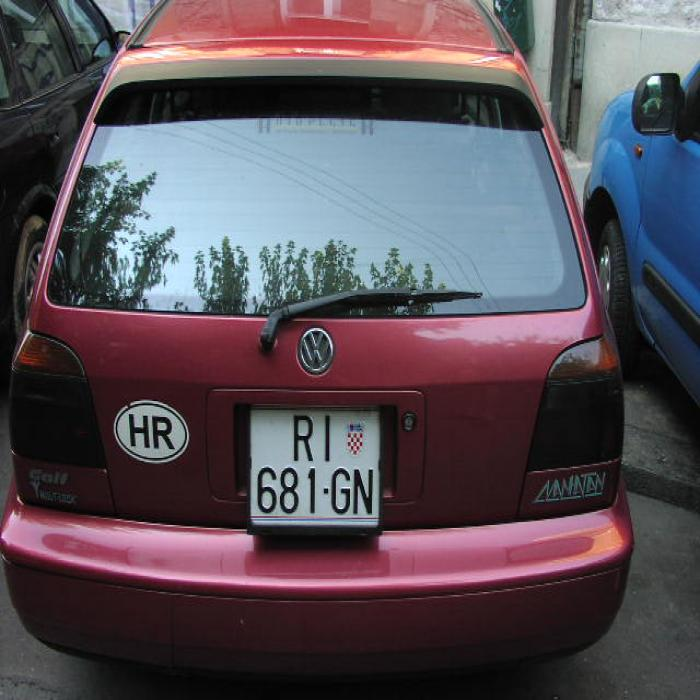number_plate: (250, 408, 376, 524)
